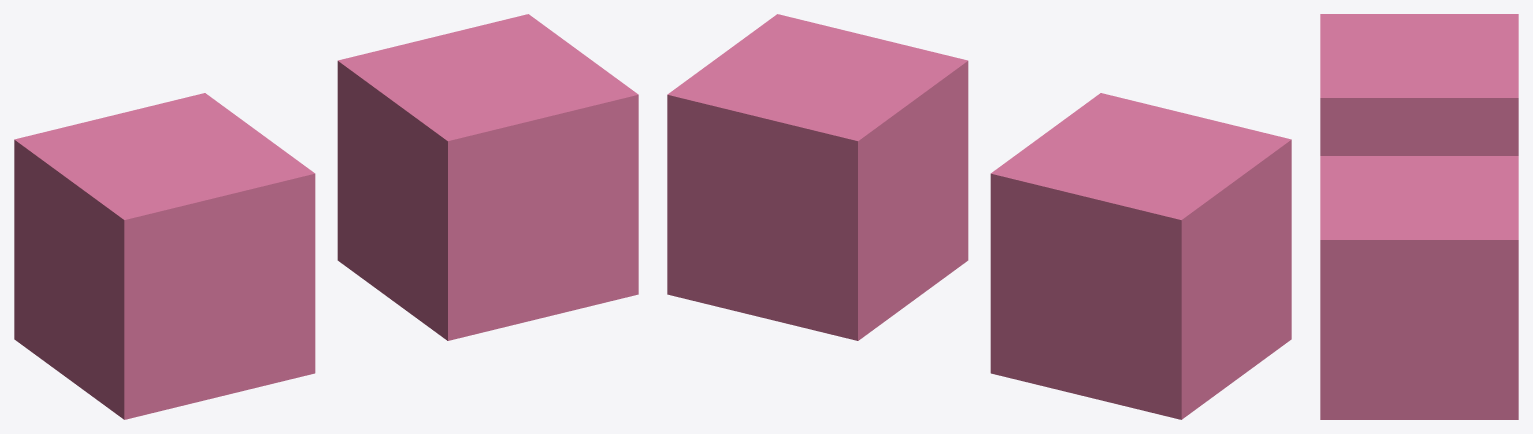
The picture shows the model from 3 angles, left to right: view 1: azimuth 30°, elevation 25°; view 2: azimuth 150°, elevation 25°; view 3: azimuth 270°, elevation 25°; orthographic projection. The views are drawn at different scales.
Visible parts, largest first — view 1: Cube, Cube.001; view 2: Cube, Cube.001; view 3: Cube, Cube.001.
Part boxes in pixels (bbox=[...]): Cube: bbox=[337, 14, 638, 340]; Cube.001: bbox=[14, 93, 315, 419]; Cube: bbox=[667, 14, 968, 340]; Cube.001: bbox=[990, 93, 1291, 419]; Cube: bbox=[1320, 156, 1518, 419]; Cube.001: bbox=[1320, 14, 1518, 155].
Bounding box in the file's own units: 5.39 × 2 × 2.
